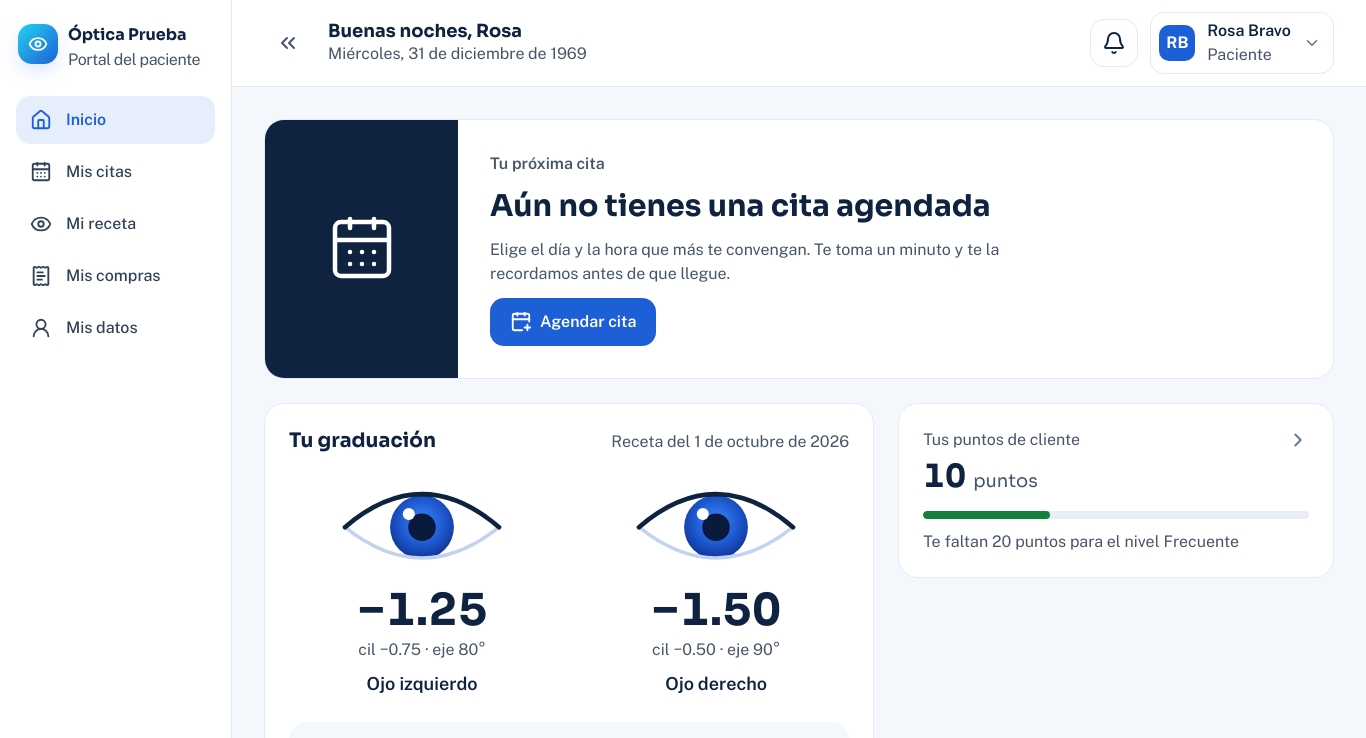
Test: Cabecera › sin nada que avisar, la campanita lo dice
Click the button named "Avisos: no tienes avisos". click: point(1114, 43)
box: [1090,19,1138,67]
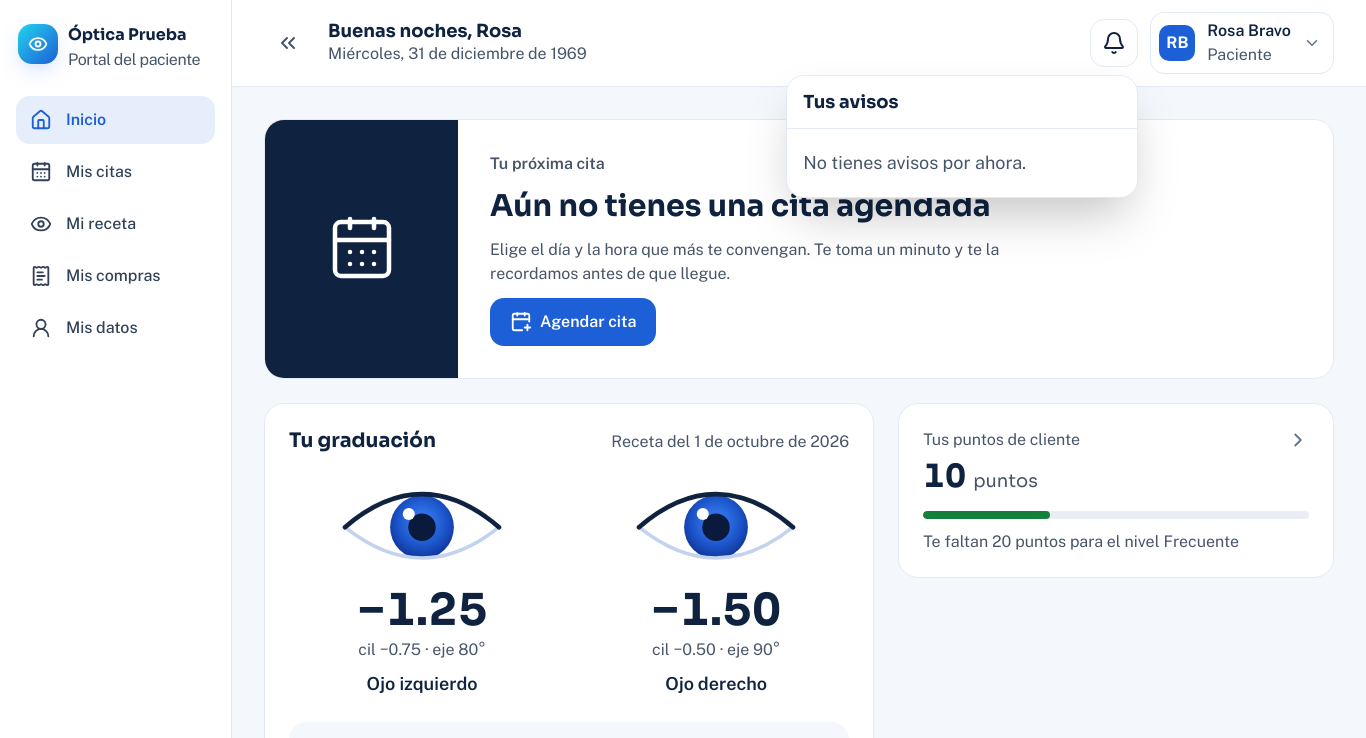
expect the menu "avisos" shows "No tienes avisos por ahora": met, box [803,152,1026,173]
